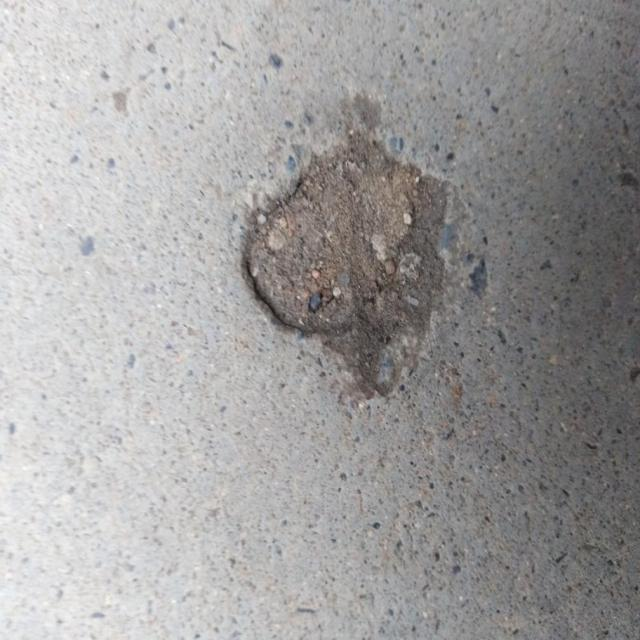concrete spalling: (242, 130, 455, 399)
